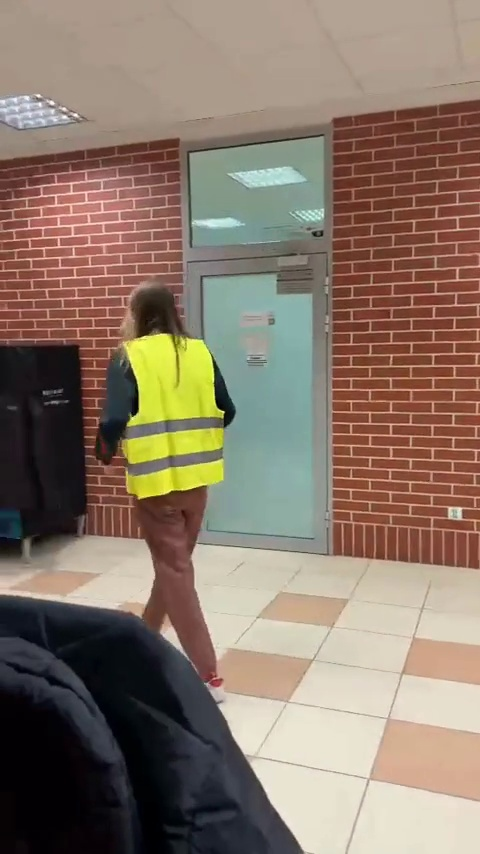vest: (87, 281, 246, 688)
